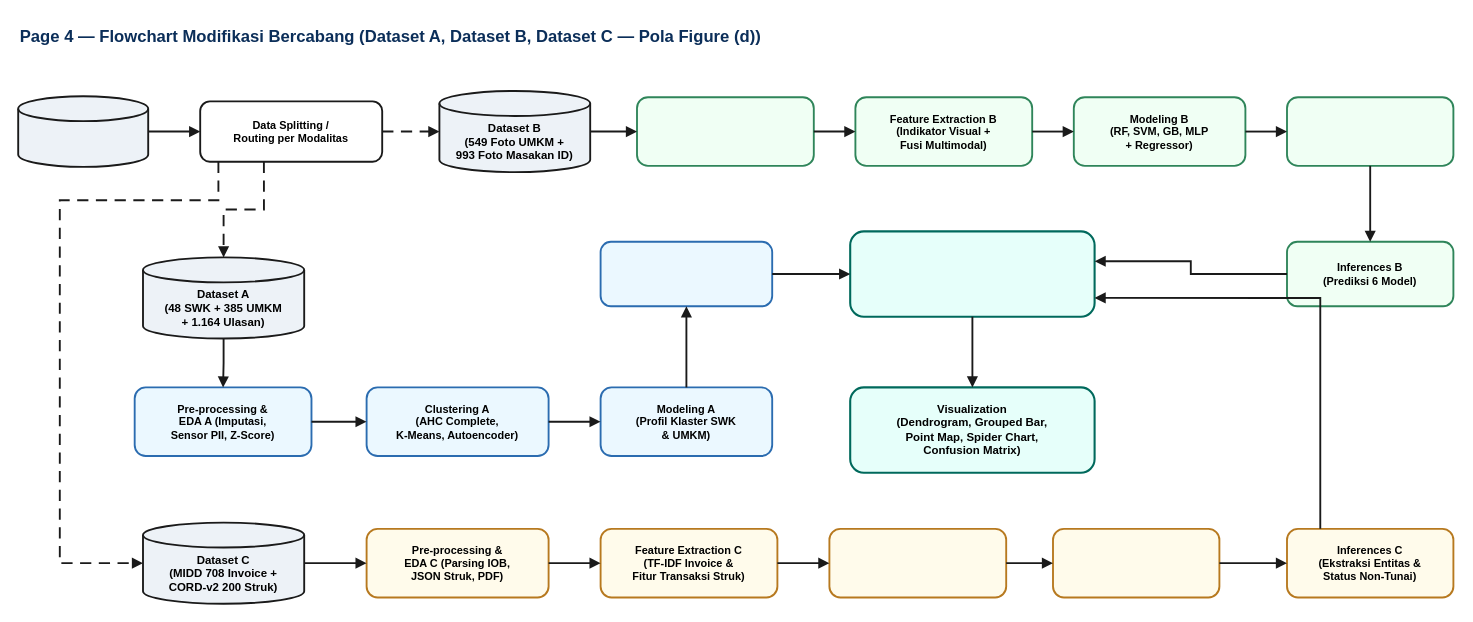
This 1473x622 diagram has some shape labels left out. The shapes that lost their labels are listed below. From the top down, each one's centre as x and y in pixels, then its label:
At point 83,131: "Multi-Source Dataset".
At point 725,131: "Pre-processing & EDA B (Filter Visual, Blur Wajah)".
At point 1370,131: "Evaluation B (GroupKFold F1, Kappa, R2/RMSE)".
At point 686,273: "Evaluation A (Cophenetic & Silhouette Score)".
At point 972,273: "Analysis (Spatial BDA Digital Gap 6 Kecamatan & Komparasi Repeat vs Modifikasi)".
At point 917,562: "Modeling C (Klasifikasi Layout & Pembayaran Struk)".
At point 1136,562: "Evaluation C (StratifiedKFold Accuracy & F1)".
